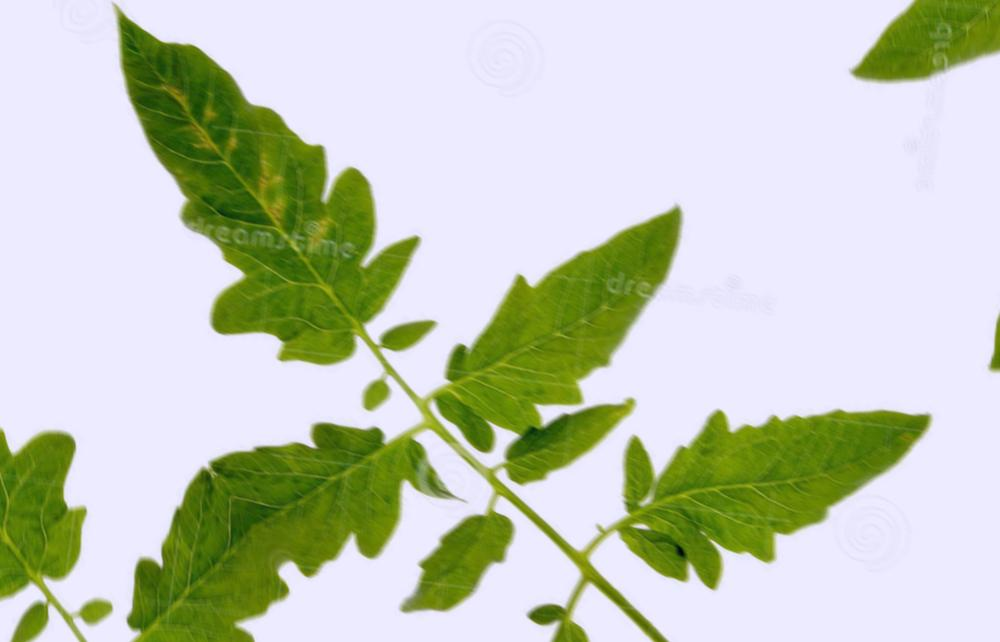Tomato leaf: (0, 0, 470, 442), (544, 253, 978, 642), (387, 146, 782, 499), (175, 299, 496, 629), (375, 547, 679, 642)
